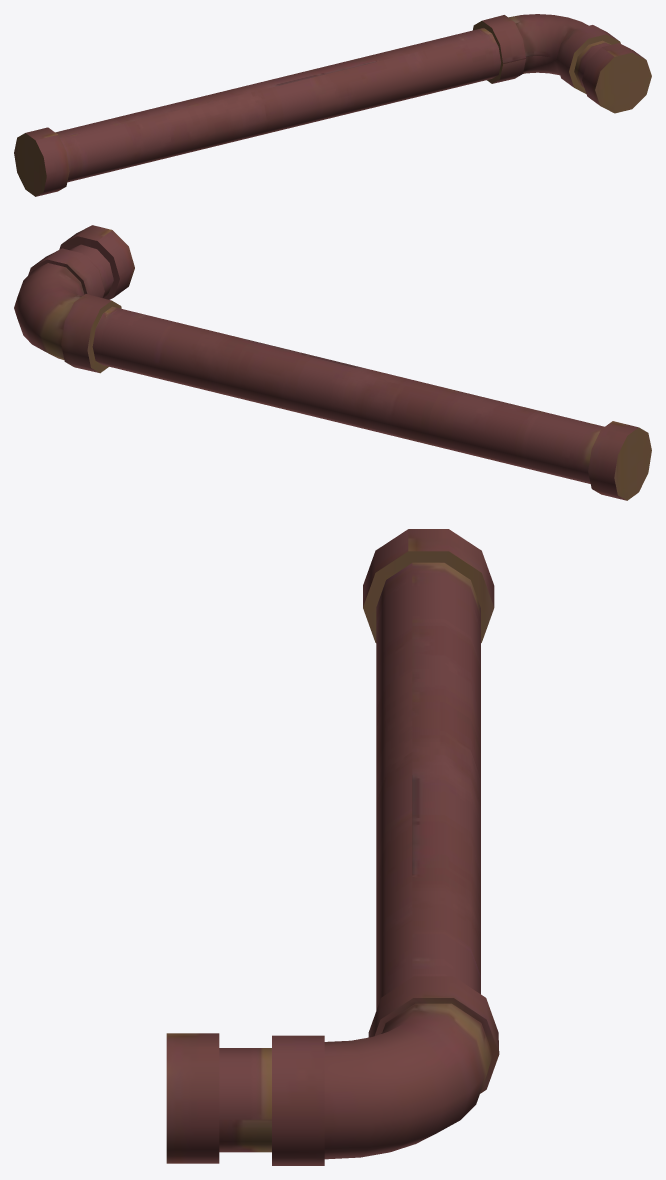
The picture shows the model from 3 angles, top to bottom: view 1: azimuth 30°, elevation 25°; view 2: azimuth 150°, elevation 25°; view 3: azimuth 270°, elevation 25°; orthographic projection. The views are drawn at different scales.
Parts seen in each view (by area): view 1: body0_model0_lod0_mesh0; view 2: body0_model0_lod0_mesh0; view 3: body0_model0_lod0_mesh0.
Boxes of the visible parts, bbox=[...] form: body0_model0_lod0_mesh0: bbox=[14, 14, 651, 196]; body0_model0_lod0_mesh0: bbox=[14, 225, 651, 500]; body0_model0_lod0_mesh0: bbox=[166, 529, 499, 1165].
Bounding box in the file's own units: 97.72 × 9.69 × 25.3.
1 material, 1 textured.
